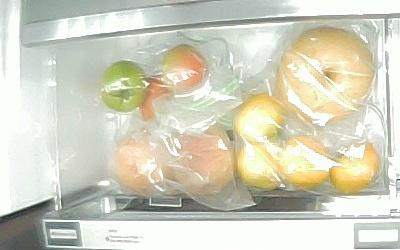peach_vinyl: (172, 122, 234, 196), (112, 128, 171, 197)
pear_vinyl: (278, 26, 374, 121)
tangerine_vinyl: (280, 135, 330, 191), (330, 143, 379, 193), (234, 94, 283, 142), (236, 142, 280, 192)
tomato_vinyl: (99, 60, 145, 112), (160, 44, 208, 93), (139, 75, 172, 119)
